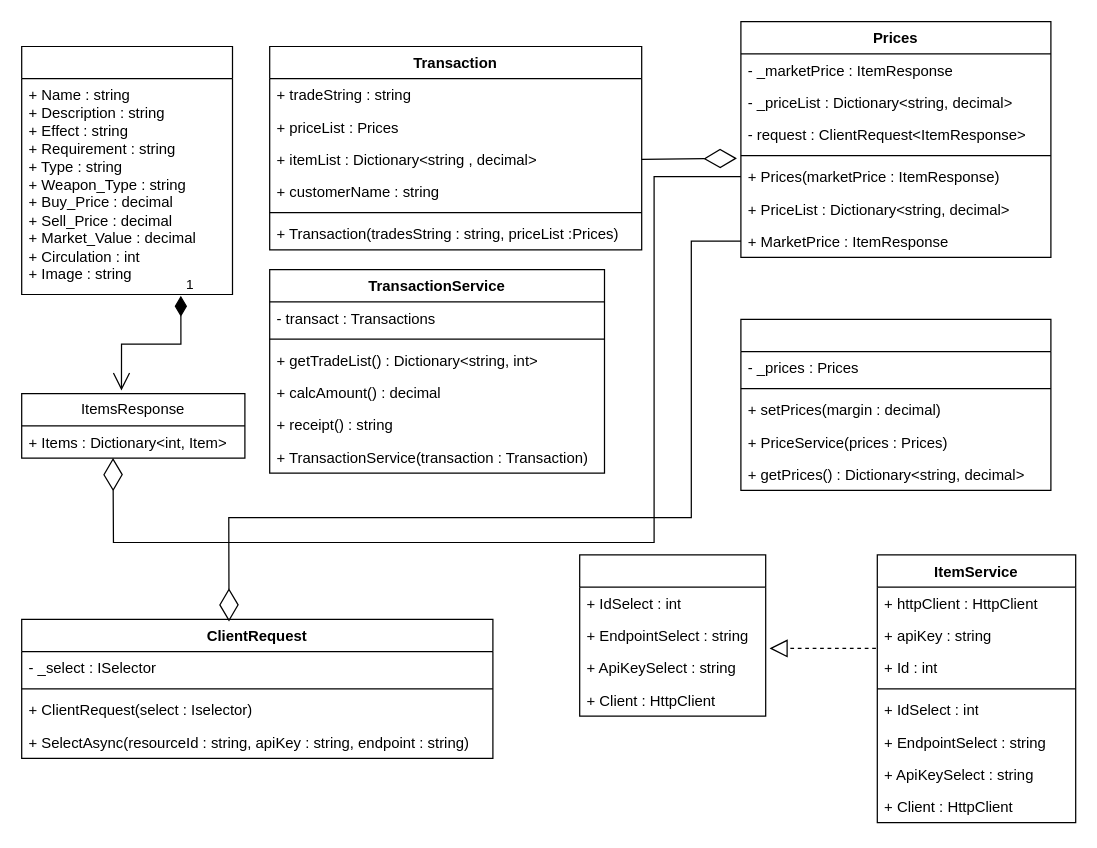
This 1097x848 diagram has some shape labels left out. Each missing label, with the box of its shape:
ISelector: (578, 554, 766, 716)
Item: (20, 45, 232, 294)
PricesService: (740, 318, 1051, 490)
